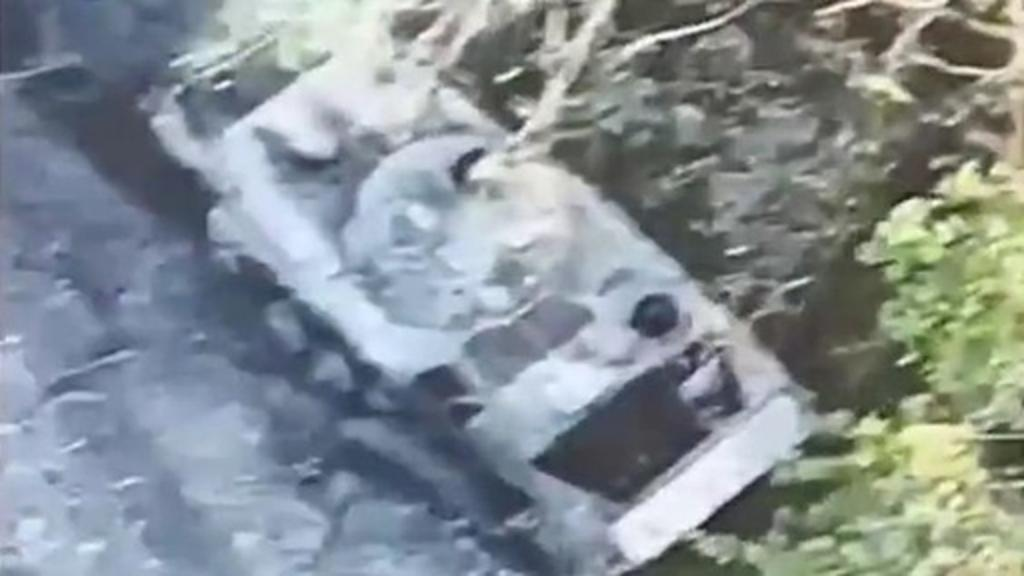APC-IFV: (120, 14, 816, 568)
